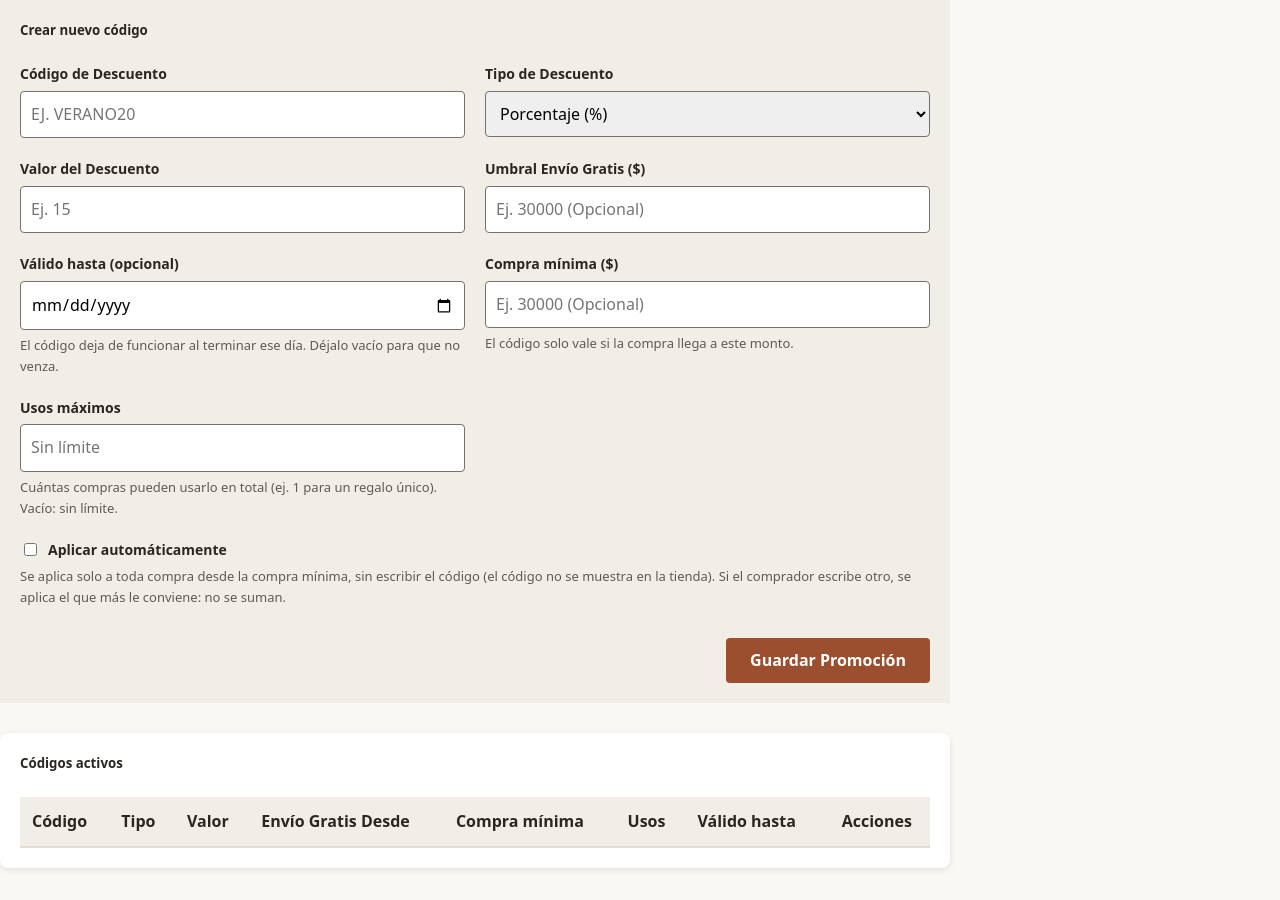
Test: GestorPromociones › el código queda en mayúsculas y sin espacios mientras se escribe
Type "verano 20" into the field labelled "Código de Descuento" at (242, 115), box left=20, top=91, right=465, bottom=138
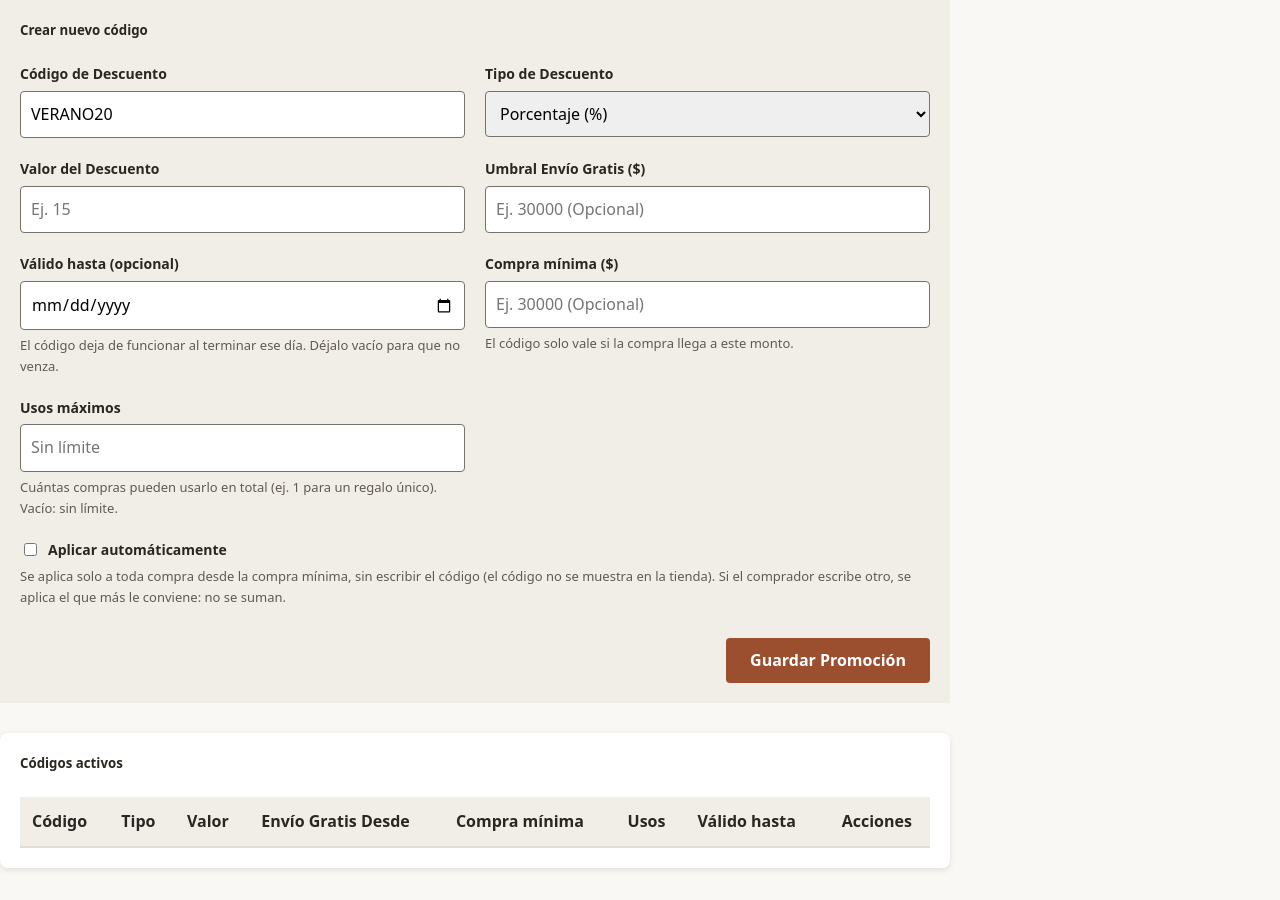
Expected: the field labelled "Código de Descuento" holds "VERANO20", left=20, top=91, right=465, bottom=138
